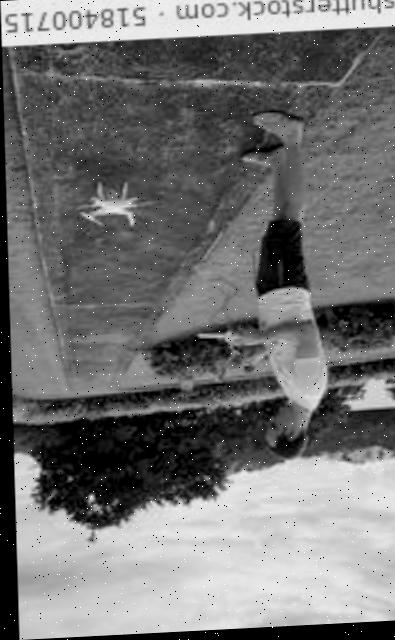drone: (62, 138, 172, 257)
